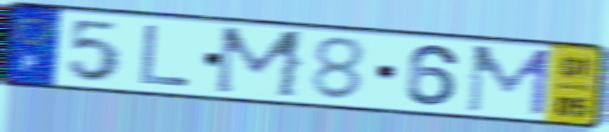5: (64, 17, 126, 83)
6: (405, 42, 462, 109)
8: (308, 34, 369, 103)
L: (136, 22, 194, 89)
M: (210, 24, 309, 102), (463, 43, 555, 119)
